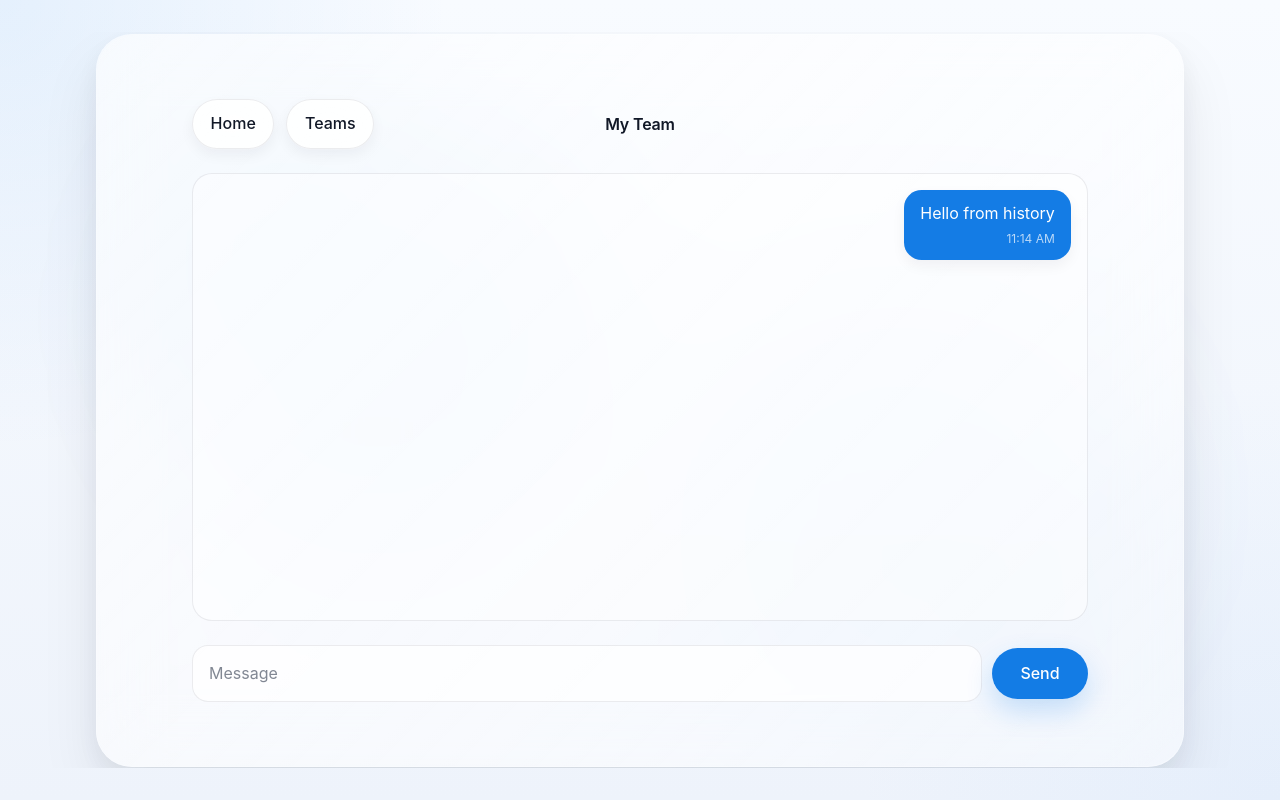
sends a message and shows it in the list
Expected: the text "Hello from history" is shown, [920,202,1055,226]
Type "New message" into the field at point(587, 673), box [192,645,982,702]
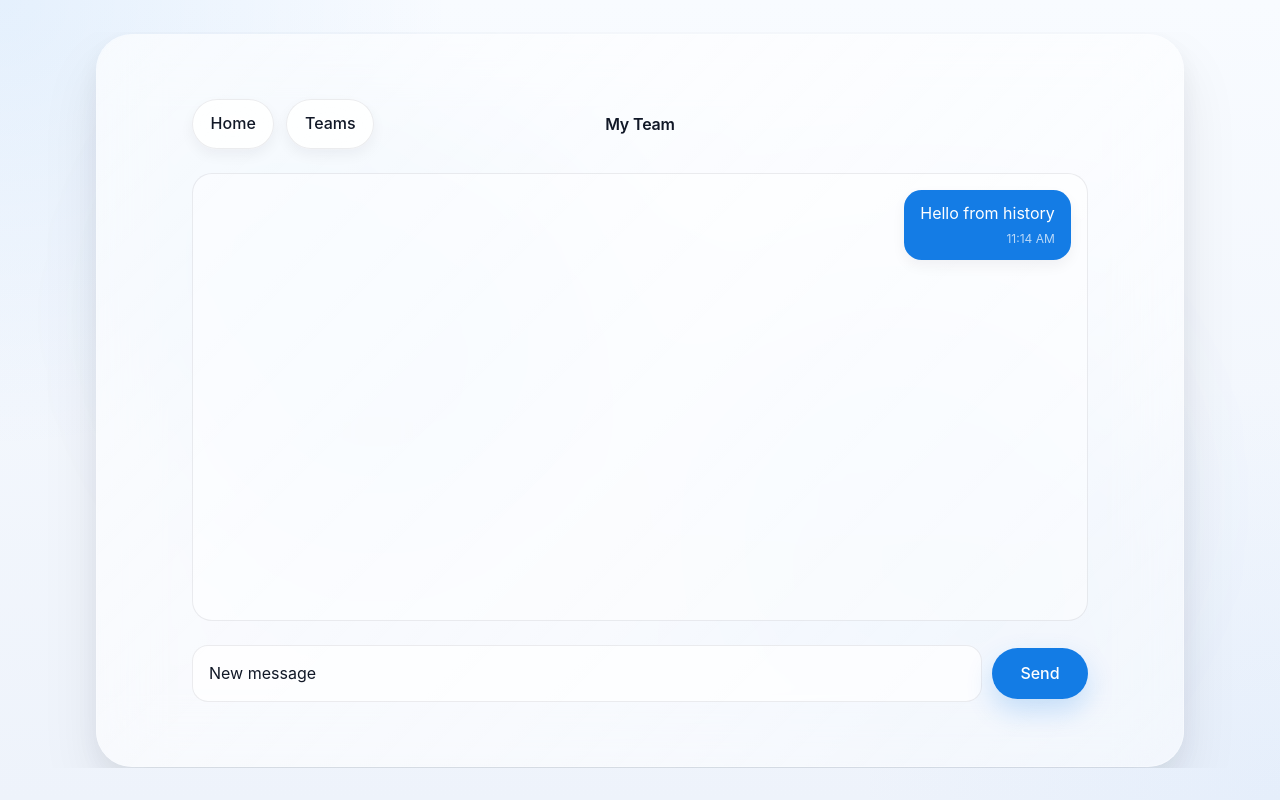
Submit the form, box [192,645,1088,702]
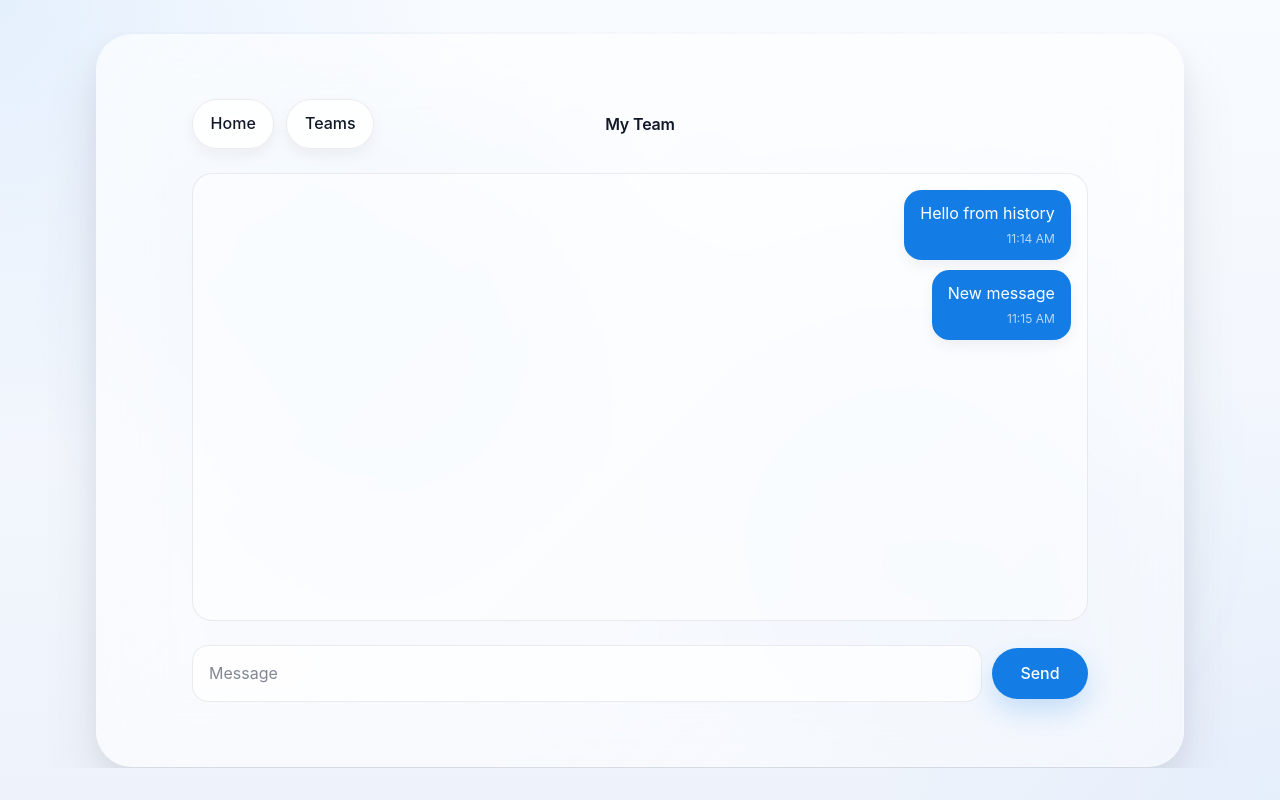
Expected: the text "New message" is shown, [948,282,1055,306]
